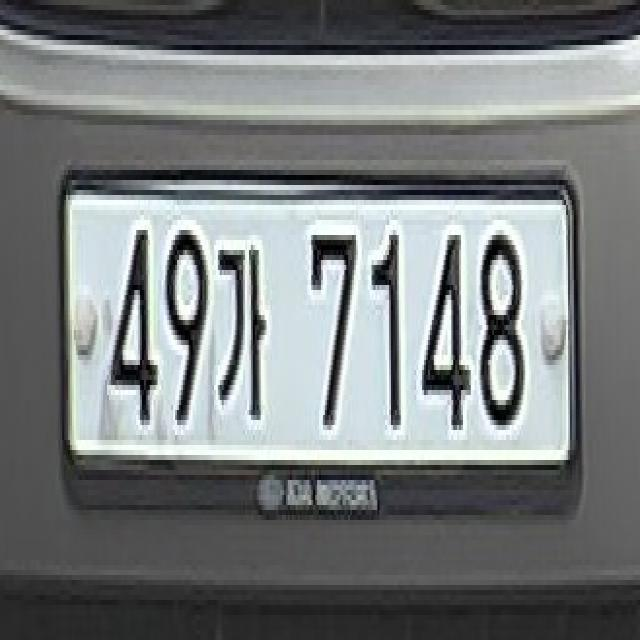1: (364, 219, 416, 444)
4: (99, 212, 162, 438), (418, 223, 474, 442)
7: (304, 216, 361, 442)
8: (477, 220, 527, 440)
9: (163, 220, 211, 440)
ga: (213, 231, 274, 437)
license_plate: (51, 138, 588, 528)
